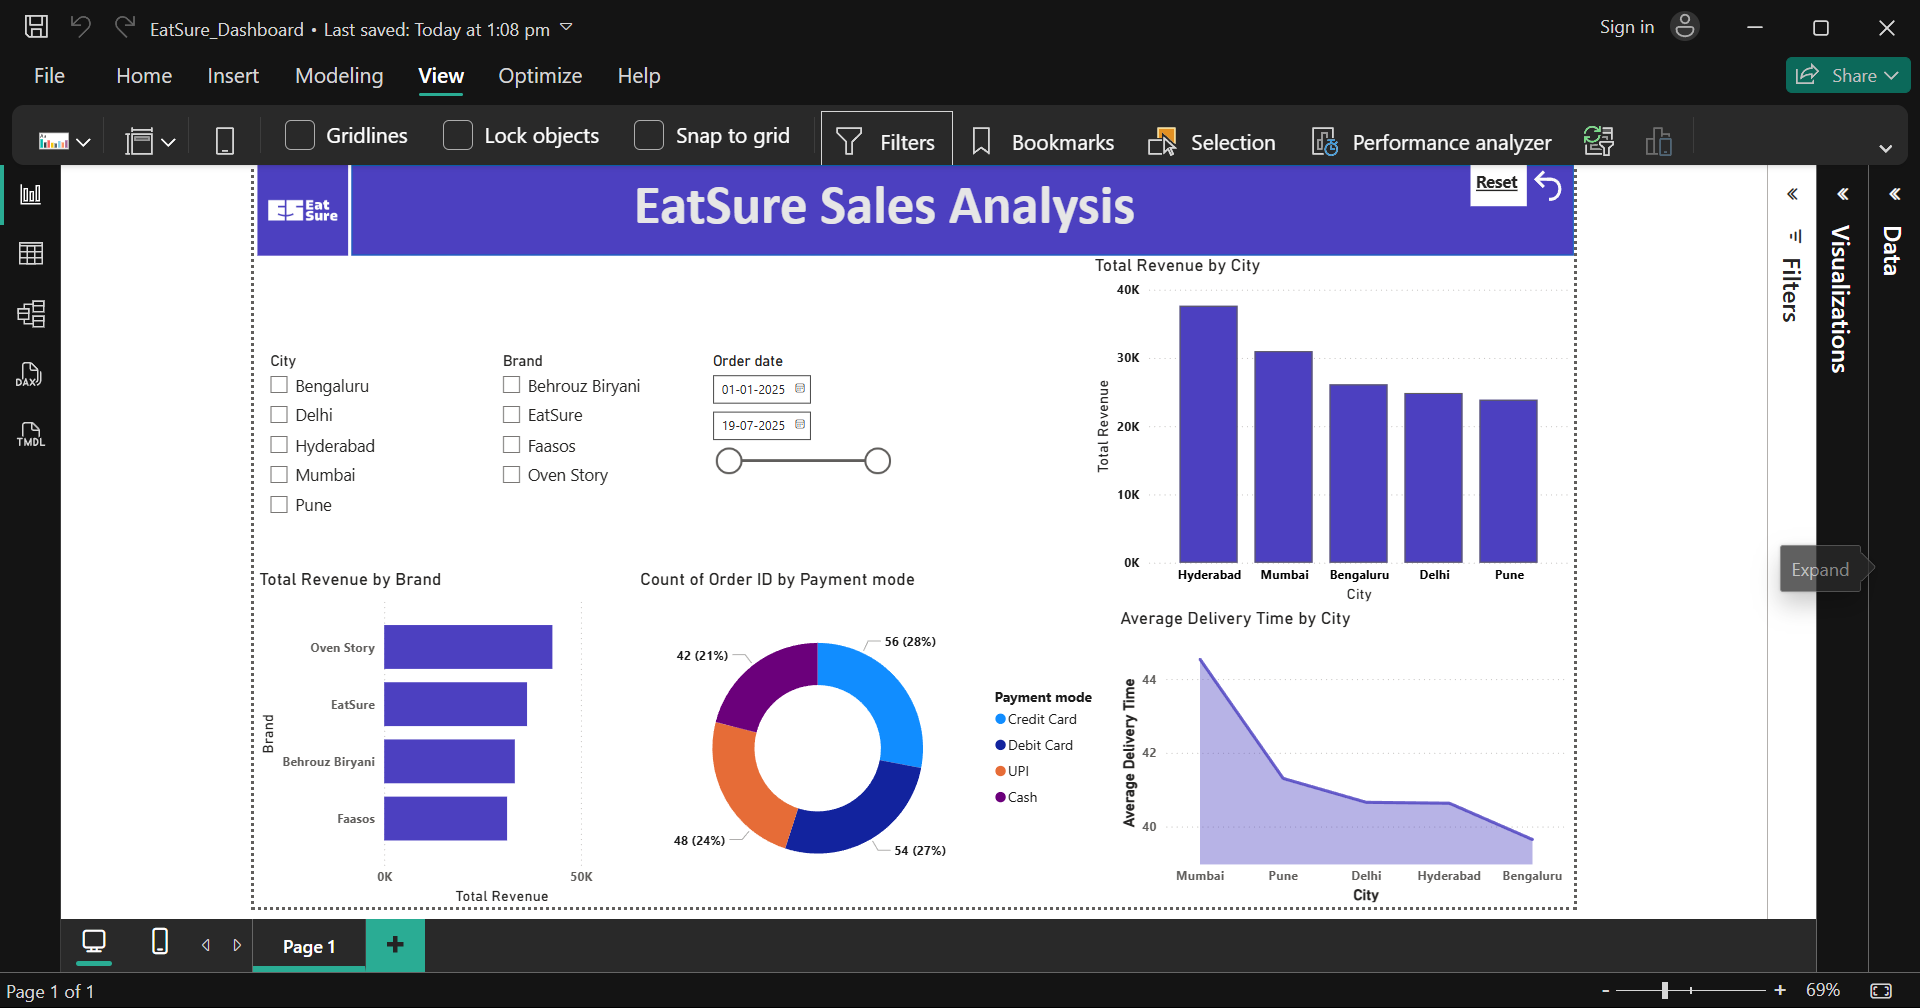

What the dashboard file says about the page in this screenshot:
{"tool":"powerbi","page":{"name":"Page 1","canvas":[1280,720],"ordinal":0},"visuals":[{"type":"clusteredColumnChart","fields":{"Category":["eatsure_sales_data.City"],"Y":["eatsure_sales_data.Total Revenue"]},"box":[810,87.8,470.4,341.2],"z":0},{"type":"barChart","fields":{"Category":["eatsure_sales_data.Brand"],"Y":["eatsure_sales_data.Total Revenue"]},"box":[0,390.9,371.1,329.6],"z":1000},{"type":"donutChart","fields":{"Category":["eatsure_sales_data.Payment mode"],"Y":["CountNonNull(eatsure_sales_data.Order ID)"]},"box":[370.4,391.2,464.9,328.8],"z":2000},{"type":"slicer","fields":{"Values":["eatsure_sales_data.Brand"]},"box":[228.6,175.6,188.8,183.9],"z":3000},{"type":"slicer","fields":{"Values":["eatsure_sales_data.City"]},"box":[3.3,175.6,182.2,183.9],"z":4000},{"type":"slicer","fields":{"Values":["eatsure_sales_data.Order date"]},"box":[432.3,175.6,193.8,187.2],"z":5000},{"type":"image","box":[0,0,94.4,87.8],"z":6000},{"type":"shape","box":[94.4,0,1186,87.8],"z":7000},{"type":"textbox","box":[338,0,548.3,87.8],"z":8000},{"type":"areaChart","fields":{"Category":["eatsure_sales_data.City"],"Y":["eatsure_sales_data.Average Delivery Time"]},"box":[835,429,445,291],"z":9000},{"type":"textbox","box":[1181.1,0,54.7,39.8],"z":10000},{"type":"actionButton","box":[1235.7,0,44.7,39.8],"z":11000}]}

Visuals, with their boxes on the page's 1280x720 design canvas (x1, y1, x2, y2). These are canvas units, not pixel positions in the 1920x1008 screenshot, which may show the page scaled, cropped or inside an application window:
clusteredColumnChart - eatsure_sales_data.City x eatsure_sales_data.Total Revenue: box=[810, 88, 1280, 429]
barChart - eatsure_sales_data.Brand x eatsure_sales_data.Total Revenue: box=[0, 391, 371, 720]
donutChart - eatsure_sales_data.Payment mode x CountNonNull(eatsure_sales_data.Order ID): box=[370, 391, 835, 720]
slicer - eatsure_sales_data.Brand: box=[229, 176, 417, 360]
slicer - eatsure_sales_data.City: box=[3, 176, 186, 360]
slicer - eatsure_sales_data.Order date: box=[432, 176, 626, 363]
image: box=[0, 0, 94, 88]
shape: box=[94, 0, 1280, 88]
textbox: box=[338, 0, 886, 88]
areaChart - eatsure_sales_data.City x eatsure_sales_data.Average Delivery Time: box=[835, 429, 1280, 720]
textbox: box=[1181, 0, 1236, 40]
actionButton: box=[1236, 0, 1280, 40]
